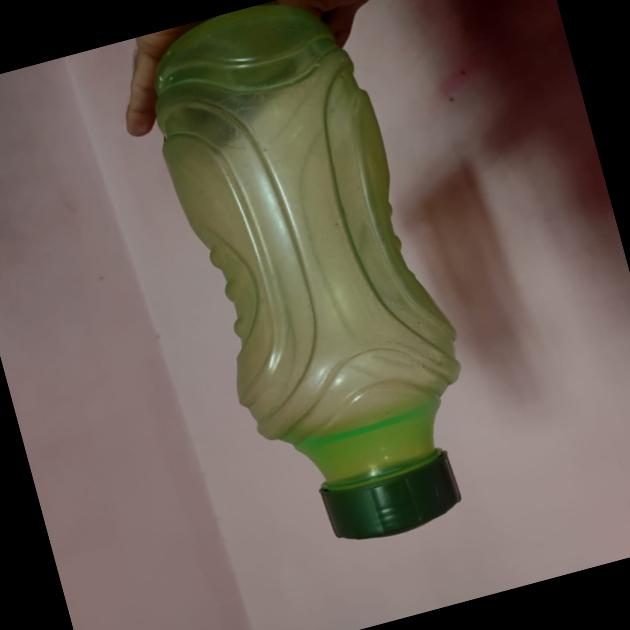waterbottle: (117, 0, 501, 568)
